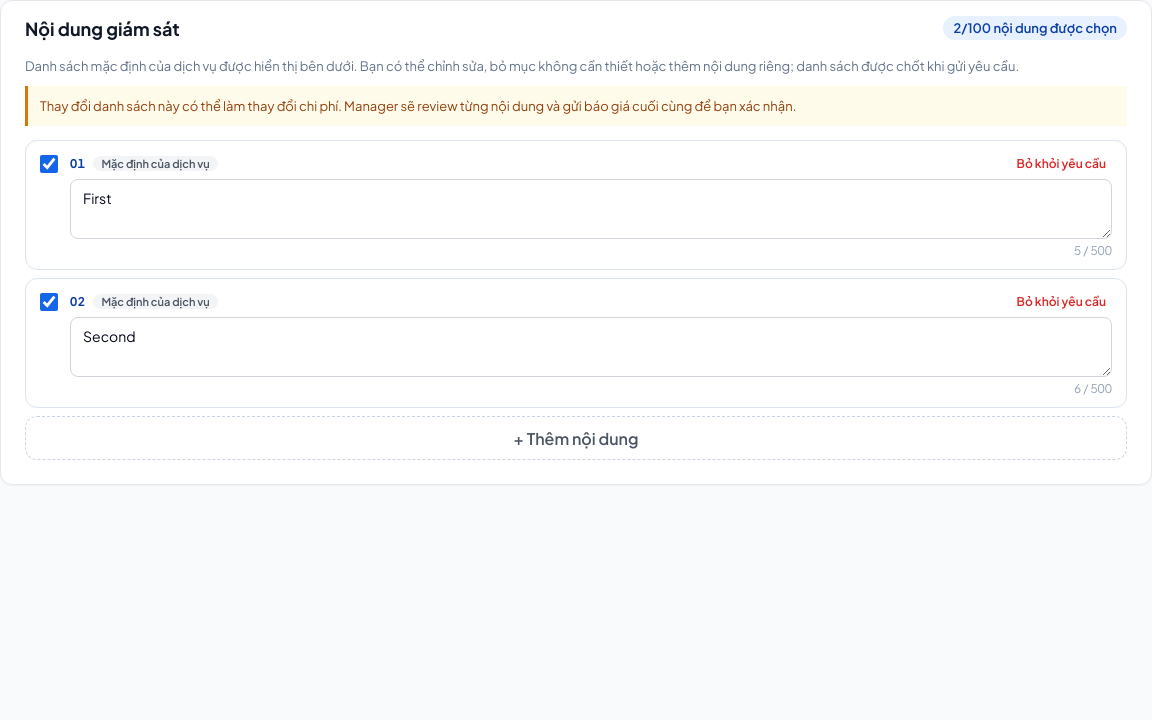
Order checklist state and editor › shows service defaults and supports remove, restore, edit and custom controls
This screenshot has width=1152, height=720.
Expected: the text "Thay đổi danh sách này có thể làm thay đổi chi phí" is shown, [40,98,796,114]
Expected: the text "Mặc định của dịch vụ" is shown 2 times, [93,156,218,171]; [93,294,218,309]
Click the button "Bỏ khỏi yêu cầu" in the row of "01" at [1061, 163], box [1011,154,1112,173]
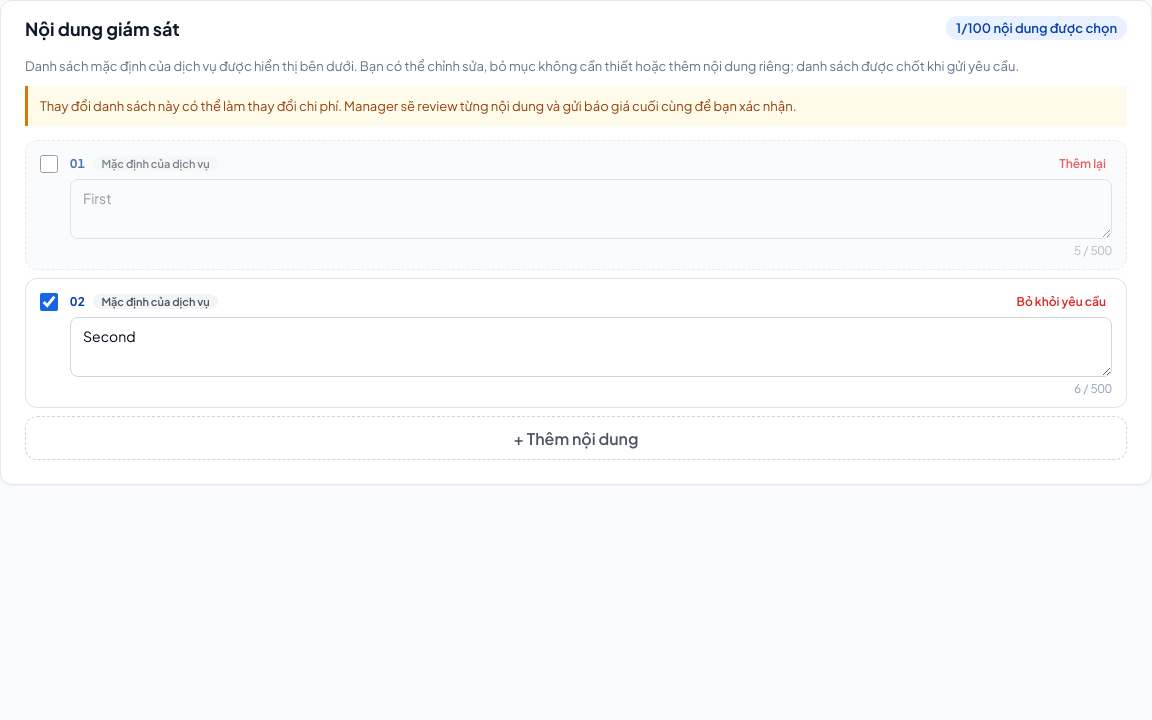
Expected: the text box named "Nội dung giám sát 1" below "01" holds "First", [70,179,1112,239]
Expected: the text box named "Nội dung giám sát 1" below "01" is disabled, [70,179,1112,239]
Click the button "Thêm lại" at [1083, 163], box [1053,154,1112,173]
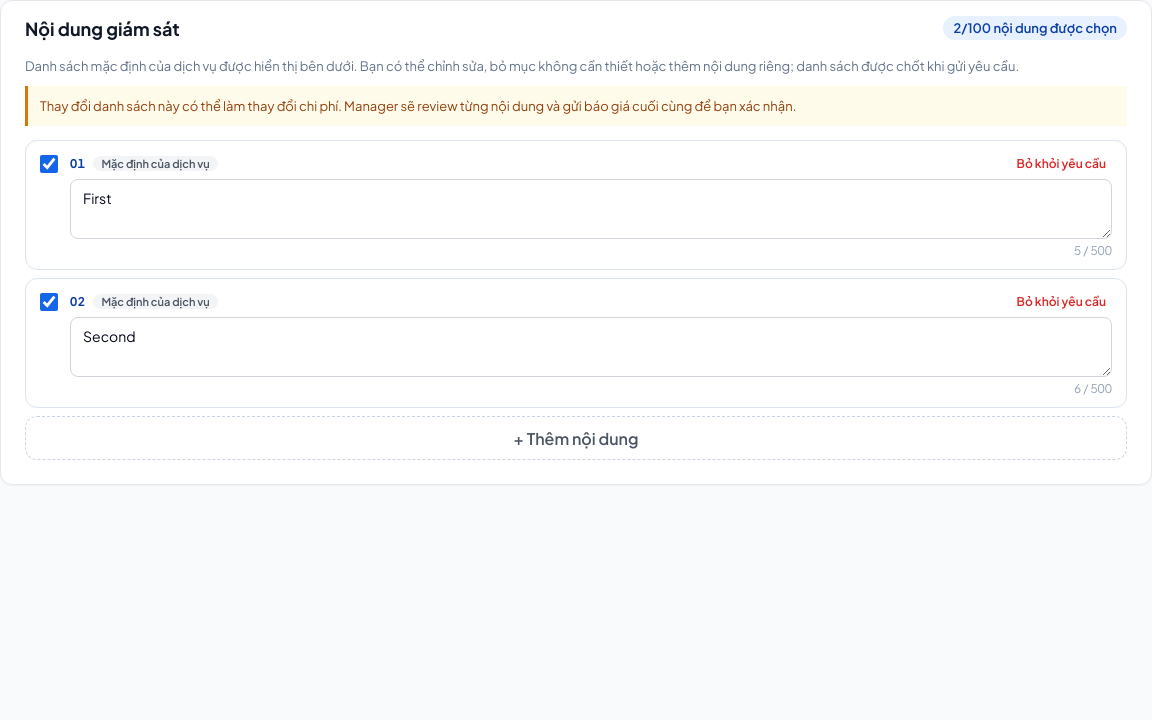
Expected: the text box named "Nội dung giám sát 1" below "01" is enabled, [70,179,1112,239]
Click the button "+ Thêm nội dung" at [576, 438], box [25,416,1127,460]
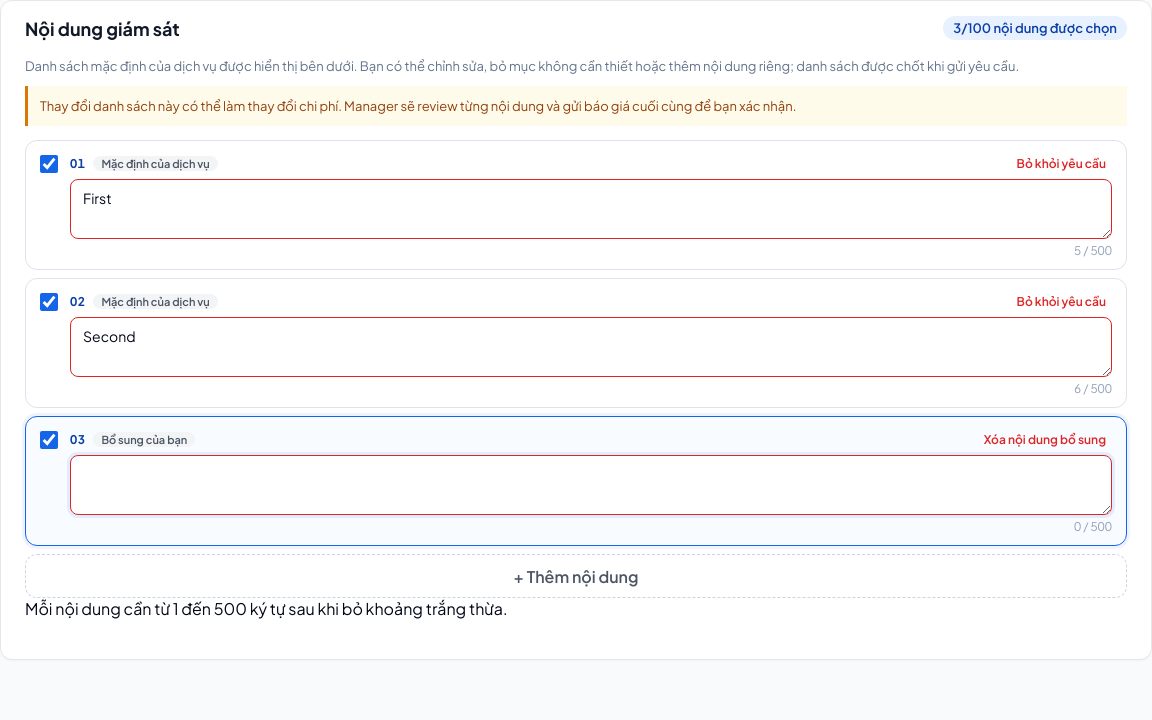
Type "Custom" into the text box named "Nội dung giám sát 3" below "03" at [591, 485], box [70,455,1112,515]
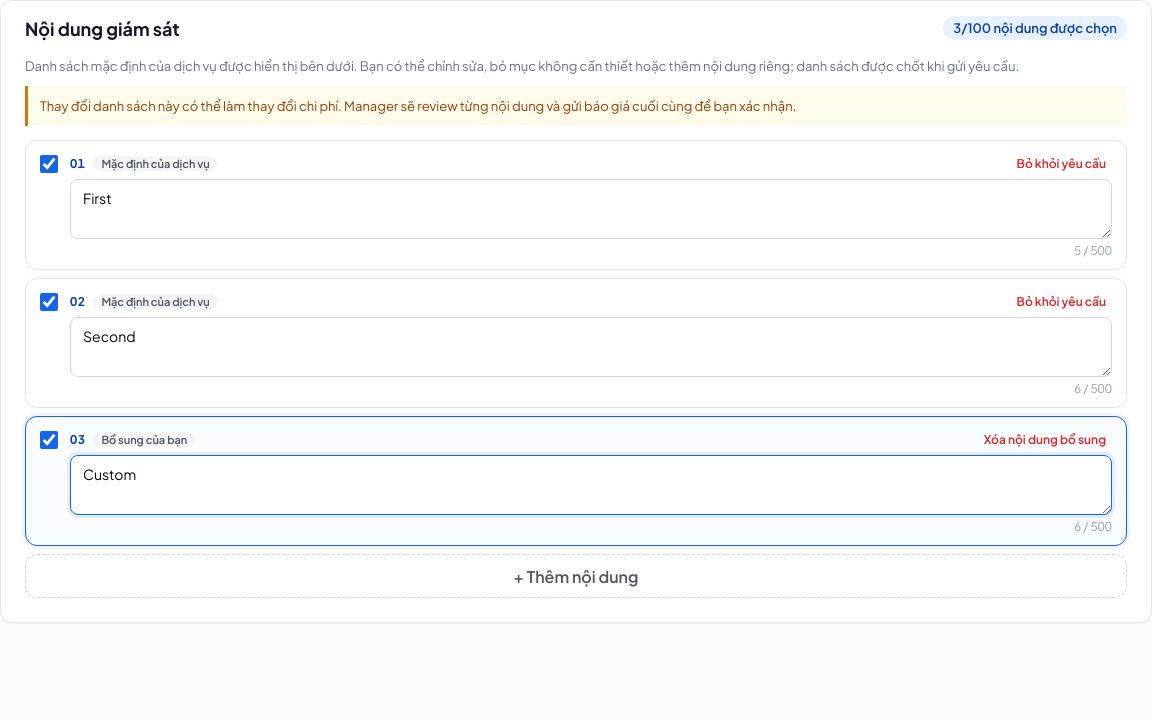
Click the button "Xóa nội dung bổ sung" at [1045, 439], box [978,430,1112,449]
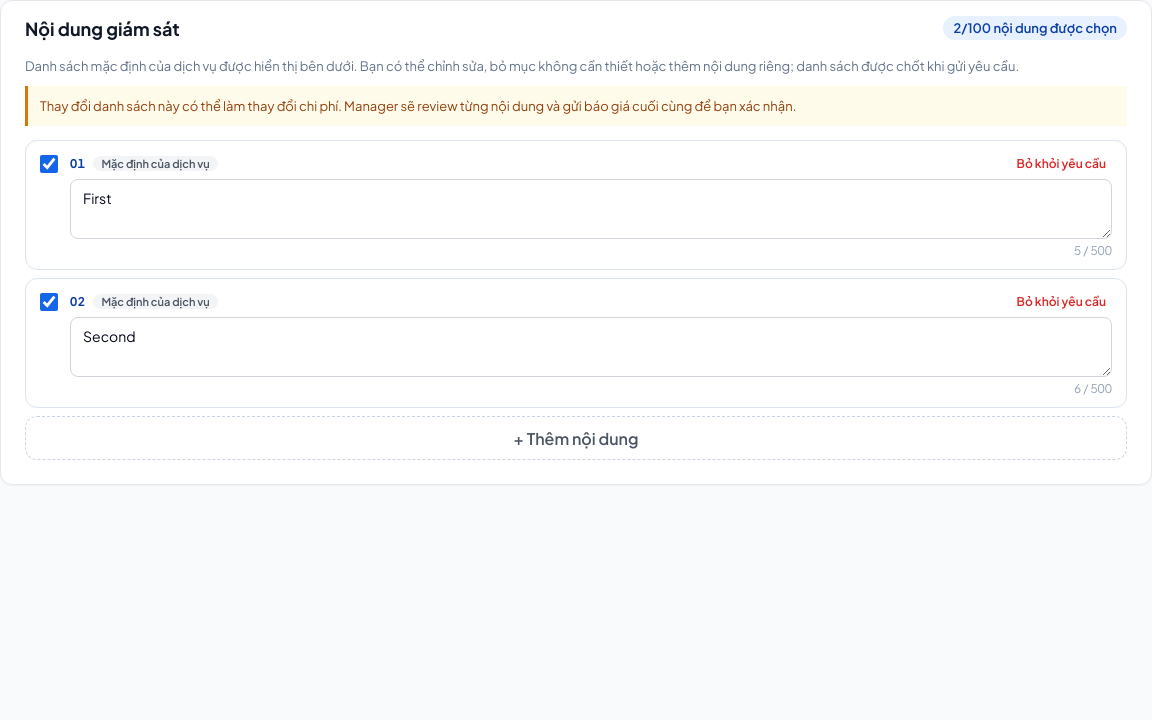
Expected: the field labelled "Nội dung giám sát 3" is gone
